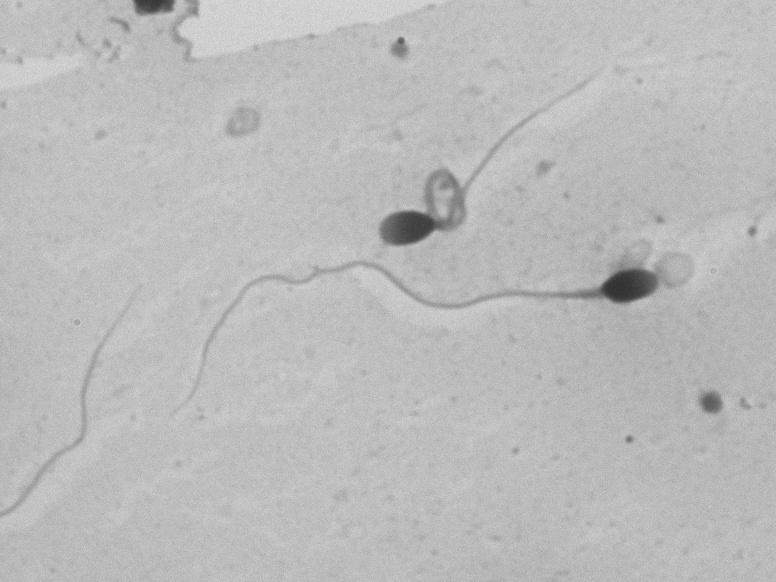Abnormal: (350, 65, 578, 273)
Normal: (168, 240, 675, 428)
